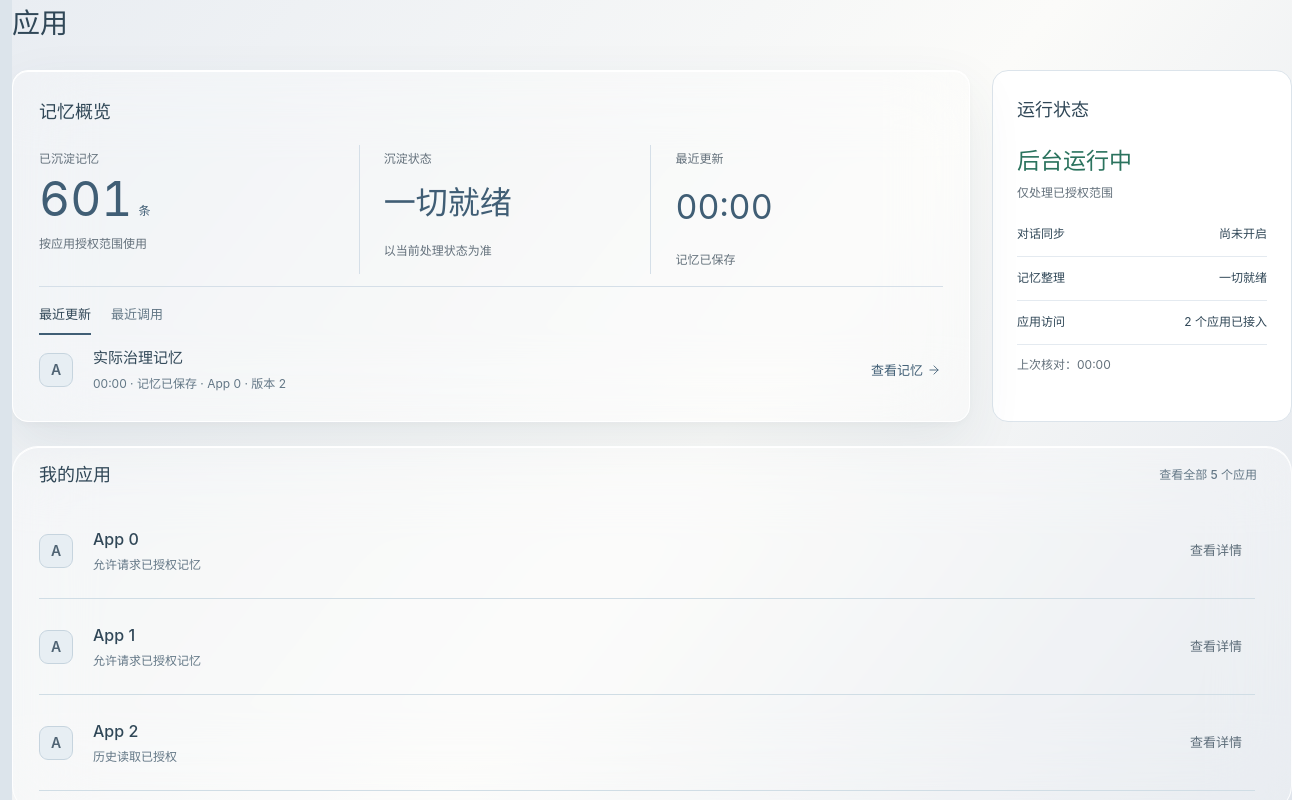
Test case: shows only the host for memory hits whose references have no source
This screenshot has width=1292, height=800.
Click the tab "最近调用" at (137, 318), box [111, 300, 163, 336]
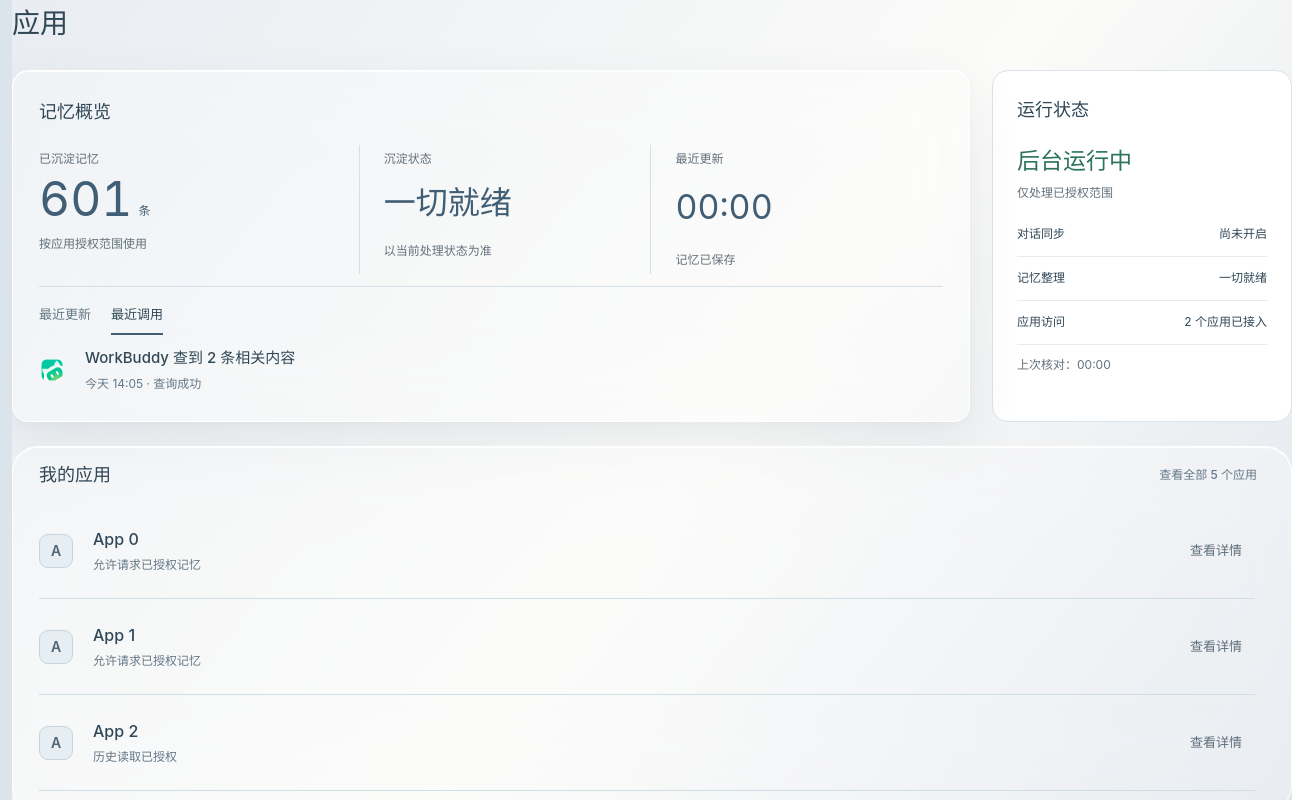
Expected: the heading "WorkBuddy 查到 2 条相关内容" is shown, [85, 349, 295, 368]
Expected: the number of pictures is 1, [39, 357, 65, 383]
Expected: the icon is gone
